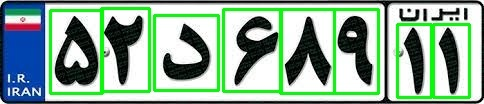character: (224, 10, 280, 91), (283, 8, 333, 94), (52, 11, 103, 93), (156, 17, 215, 86), (335, 7, 379, 93), (102, 9, 145, 90), (396, 24, 429, 98), (433, 22, 464, 97)
